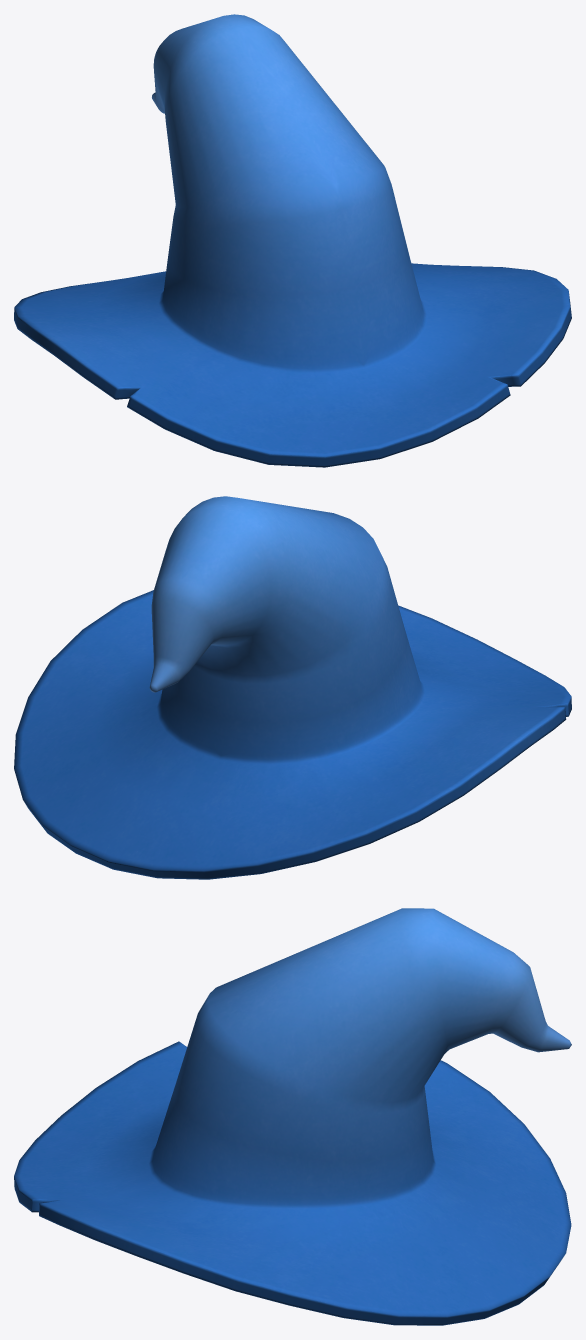
3 renders of one model, top to bottom at view 1: azimuth 30°, elevation 25°; view 2: azimuth 150°, elevation 25°; view 3: azimuth 270°, elevation 25°, orthographic.
Visible parts, largest first — view 1: WizardHat; view 2: WizardHat; view 3: WizardHat.
Boxes of the visible parts, x1,y1,x2,y2 form: WizardHat: (14, 14, 571, 467); WizardHat: (14, 496, 571, 879); WizardHat: (14, 908, 571, 1325).
Bounding box in the file's own units: 64.45 × 41.81 × 64.59.
1 material, 1 textured.
